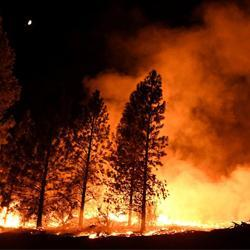fire: (87, 206, 139, 222), (0, 206, 21, 232)
smoke: (168, 29, 250, 118)
